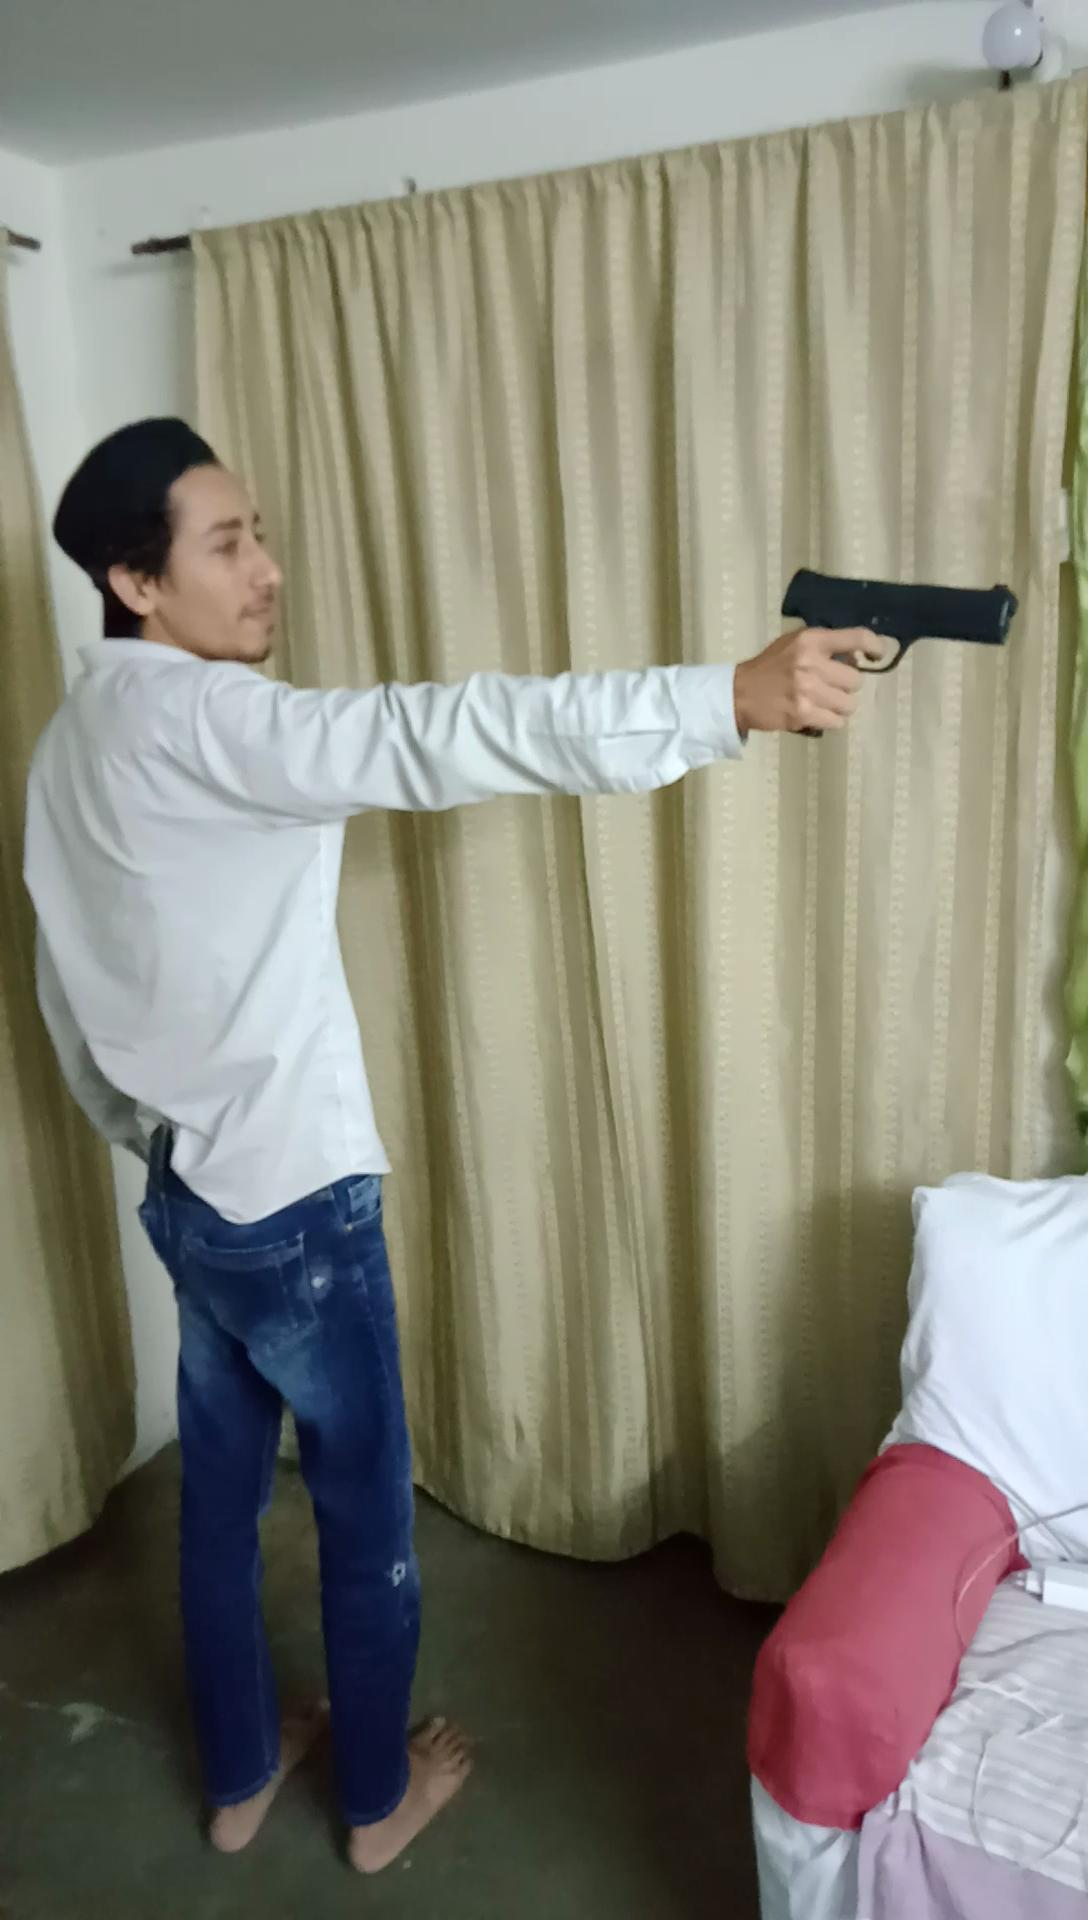criminal: (24, 406, 1041, 1873)
weapon: (764, 551, 1037, 752)
